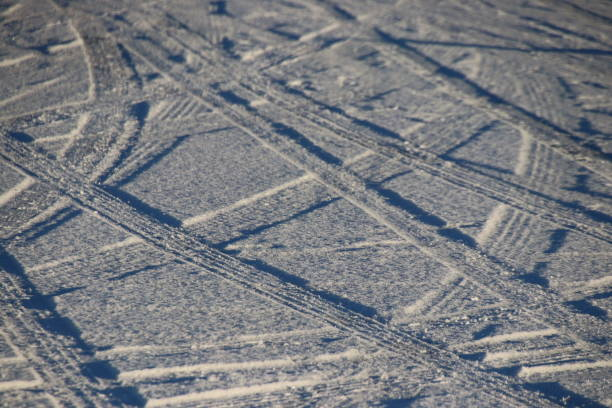vehicle_track: (0, 138, 549, 405), (131, 49, 606, 339), (163, 24, 611, 241), (314, 1, 609, 178), (336, 13, 609, 179), (0, 247, 120, 406), (283, 145, 312, 161)
